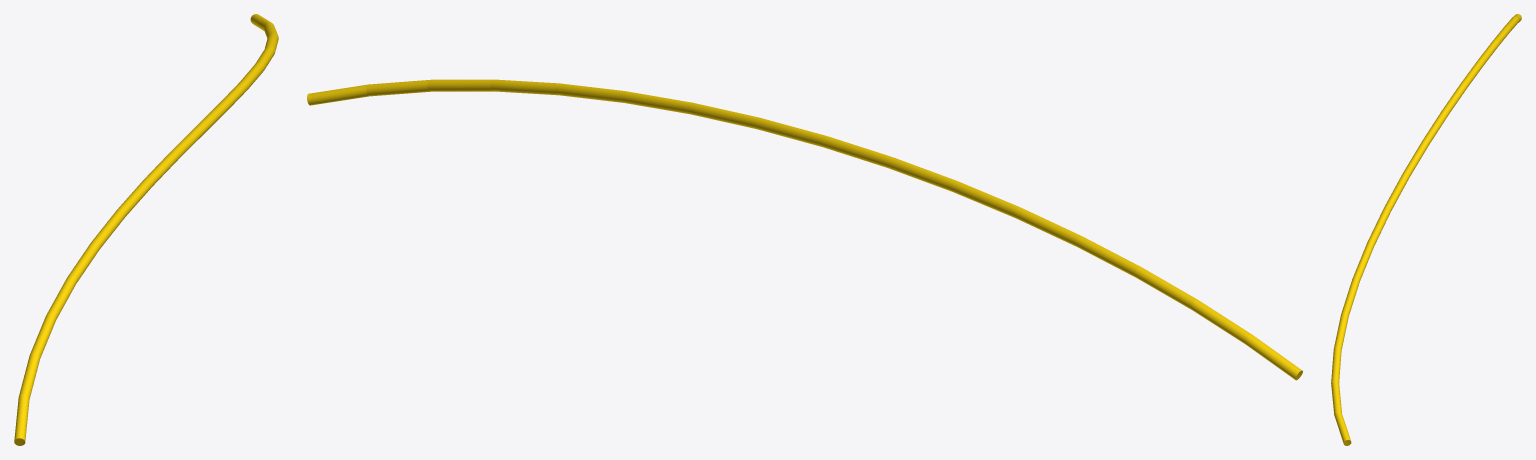
File: Event_421115418_track_95.fbx
3 renders of one model, left to right at view 1: azimuth 90°, elevation 25°; view 2: azimuth 150°, elevation 25°; view 3: azimuth 270°, elevation 25°, orthographic. The views are drawn at different scales.
Visible parts, largest first — view 1: Model; view 2: Model; view 3: Model.
Boxes of the visible parts, x1,y1,x2,y2 form: Model: [14, 14, 278, 445]; Model: [307, 79, 1302, 380]; Model: [1331, 14, 1521, 445].
Bounding box in the file's own units: 4.32 × 0.5702 × 0.9516.
